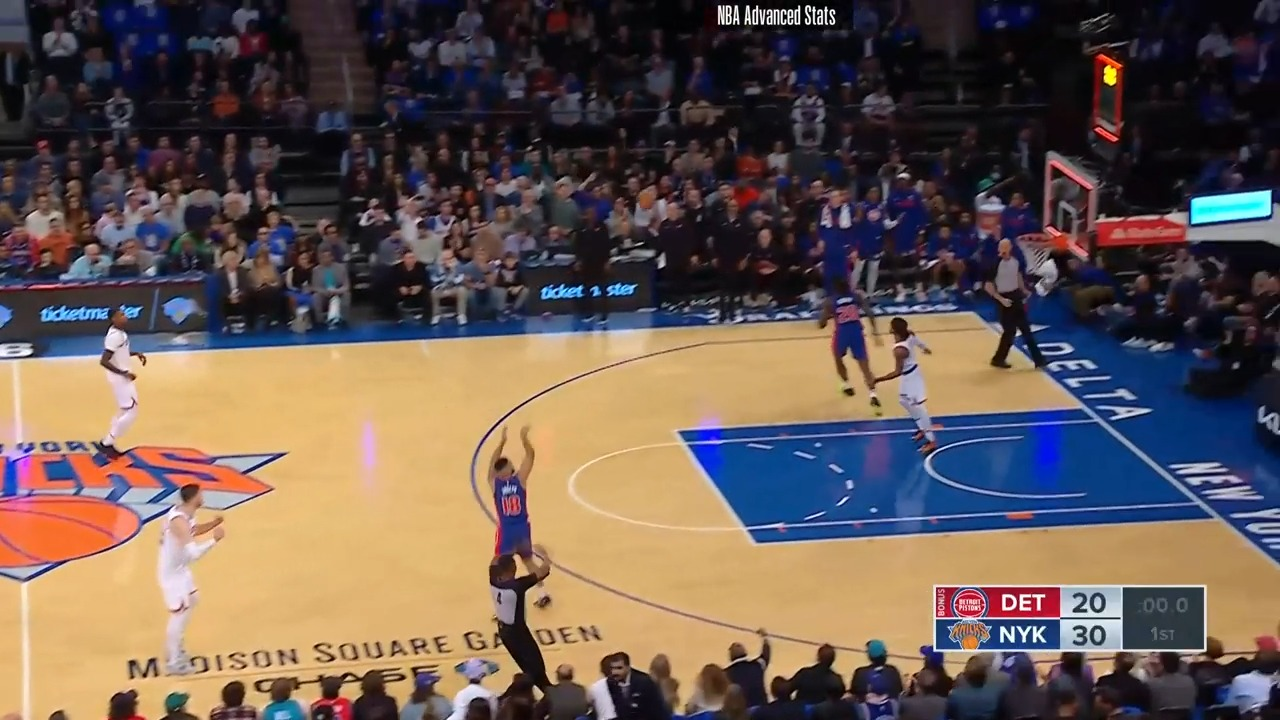net: (1015, 222, 1075, 277)
player: (121, 480, 234, 678), (477, 423, 565, 620), (84, 306, 156, 475), (863, 318, 940, 465), (812, 268, 886, 402)
referee: (490, 542, 563, 688), (974, 231, 1047, 374)
